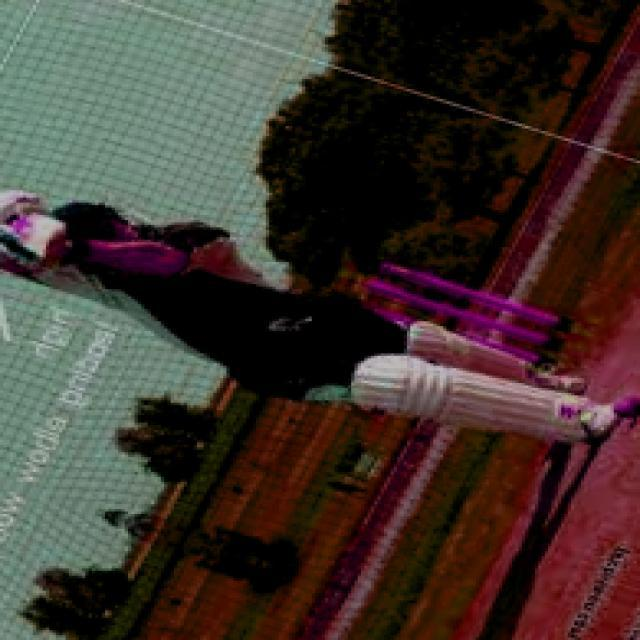bat: (0, 214, 74, 264)
toe: (45, 225, 65, 261)
